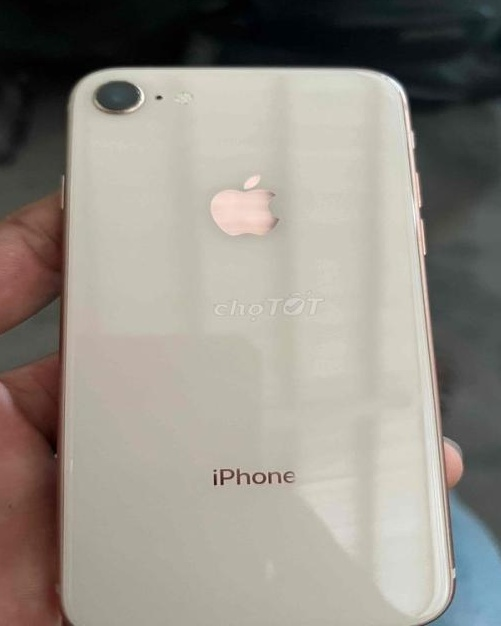scratch: (94, 77, 153, 122)
